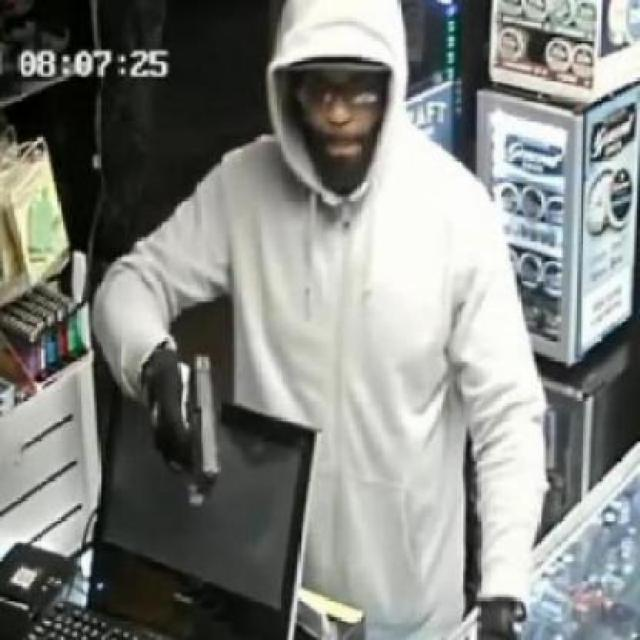gun: (142, 343, 226, 506)
